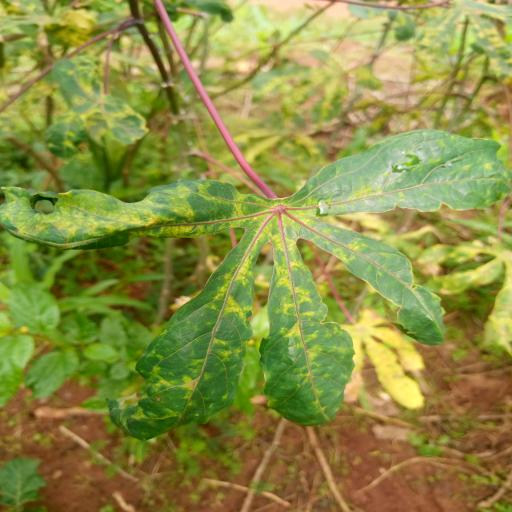Cassava_Mosaic: (0, 128, 512, 446)
